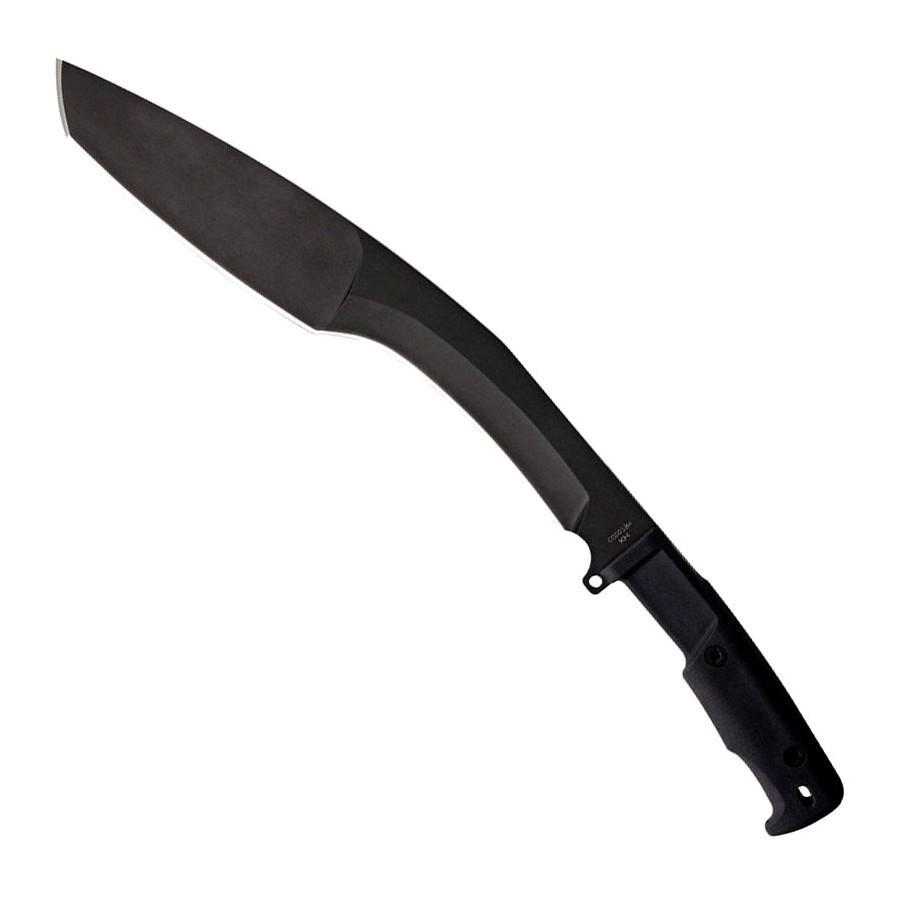facao: (58, 61, 842, 834)
